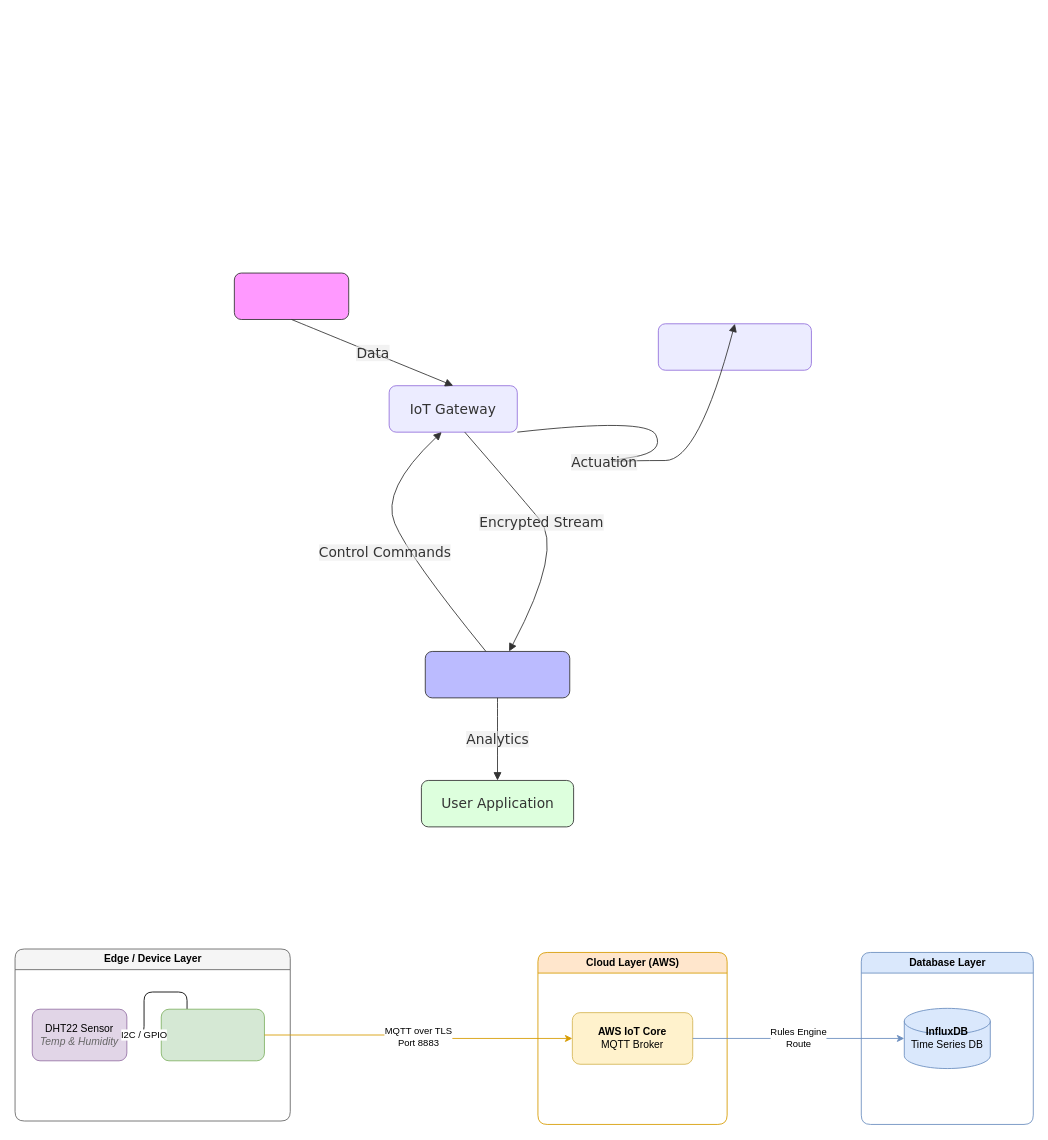
This 1048x1140 diagram has some shape labels left out. The centre of each missing label's shape, as x and y in pixels:
Actuator/Device: pixel 734 346
Cloud Platform: pixel 497 674
ESP32 Microcontroller: pixel 212 1034
IoT Sensor: pixel 291 295
